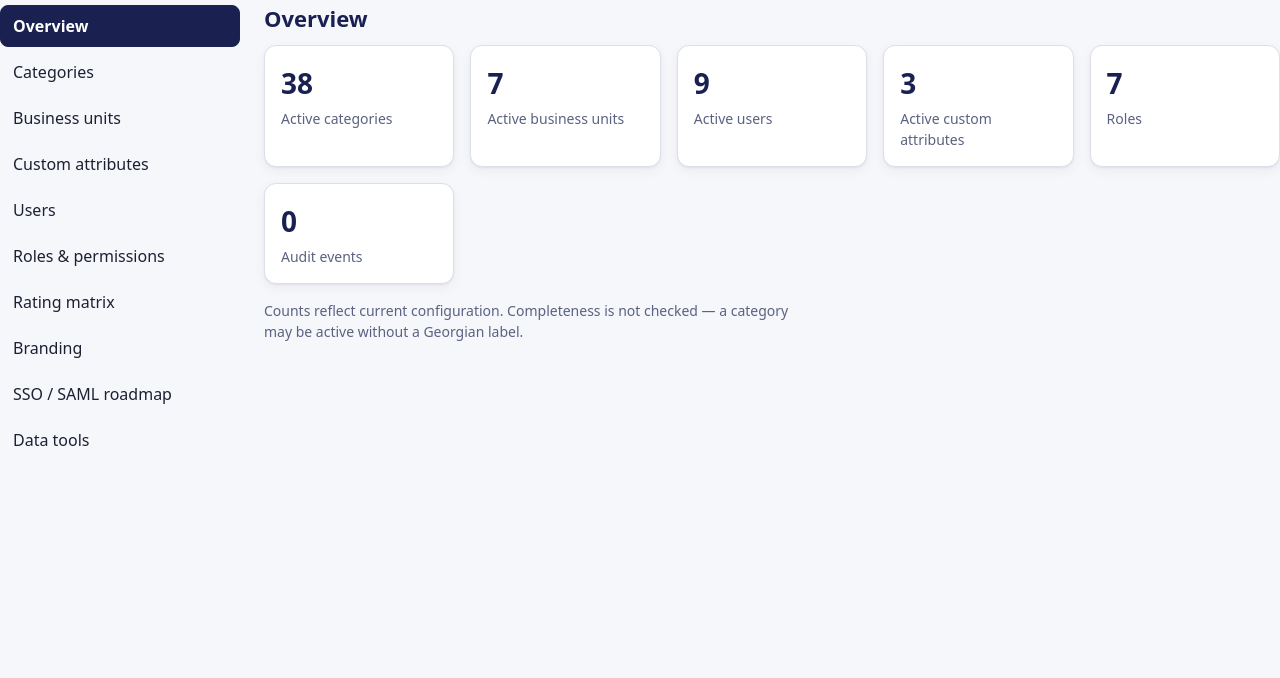
direct and inherited business unit scope › shows direct and effective counts separately
What coordinates should you click on to do the following:
click the button "Users"
I would click on:
 (120, 210)
Its box is [0,189,240,231].
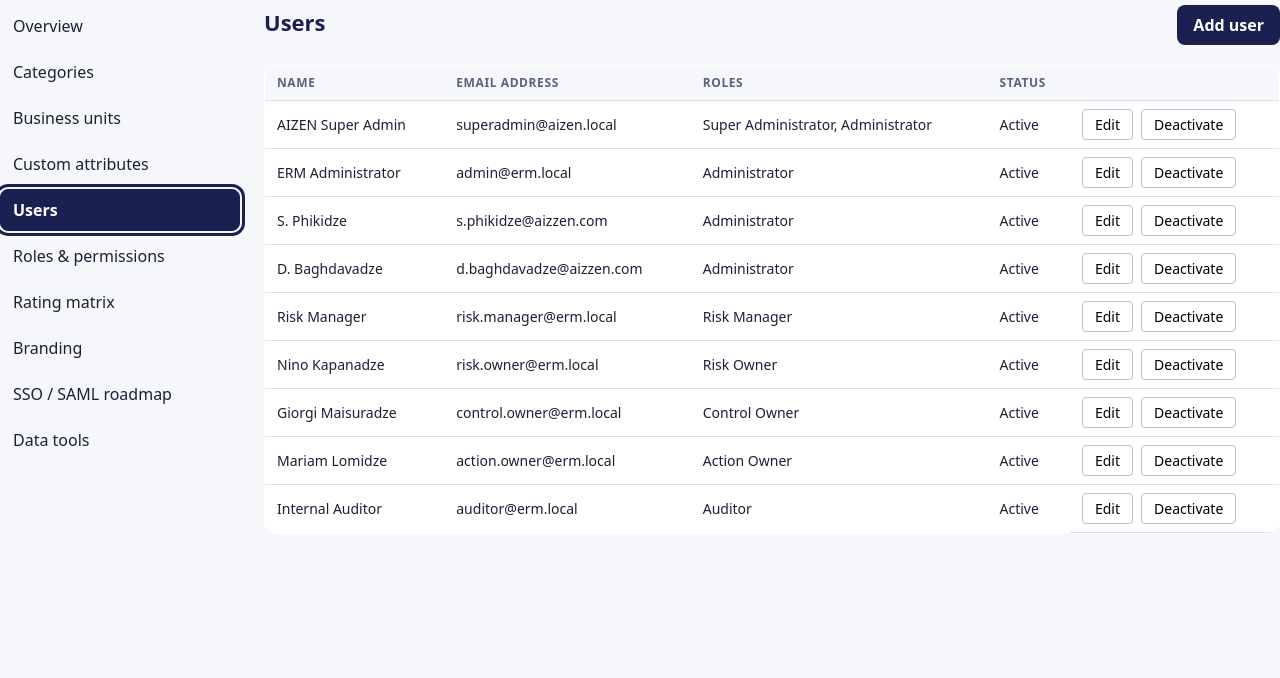
What coordinates should you click on to do the following:
click the button "Edit" in the row of "Nino Kapanadze"
I would click on:
 (1108, 364)
Its box is [1082,348,1133,380].
(page scrolled)
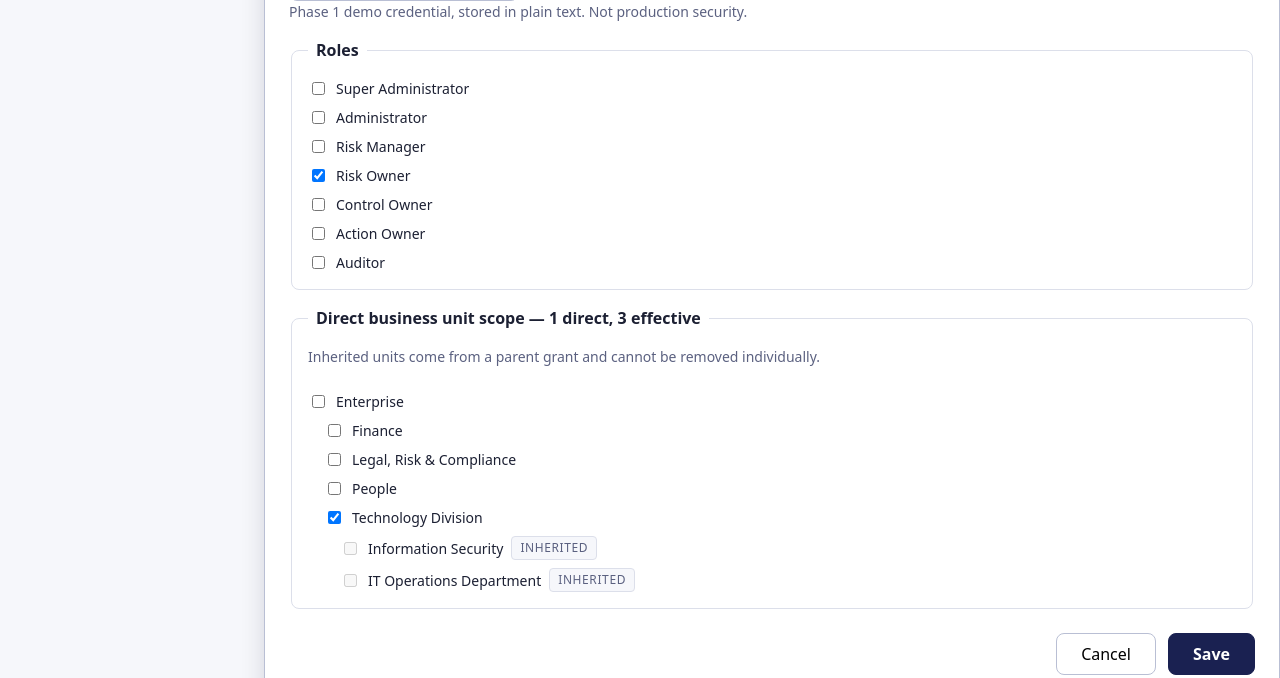
expect the text "Direct business unit scope — 1 direct, 3 effective" is shown: met, box [308,306,709,330]
